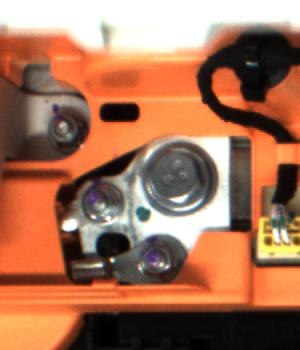nut_b: (136, 135, 220, 220)
